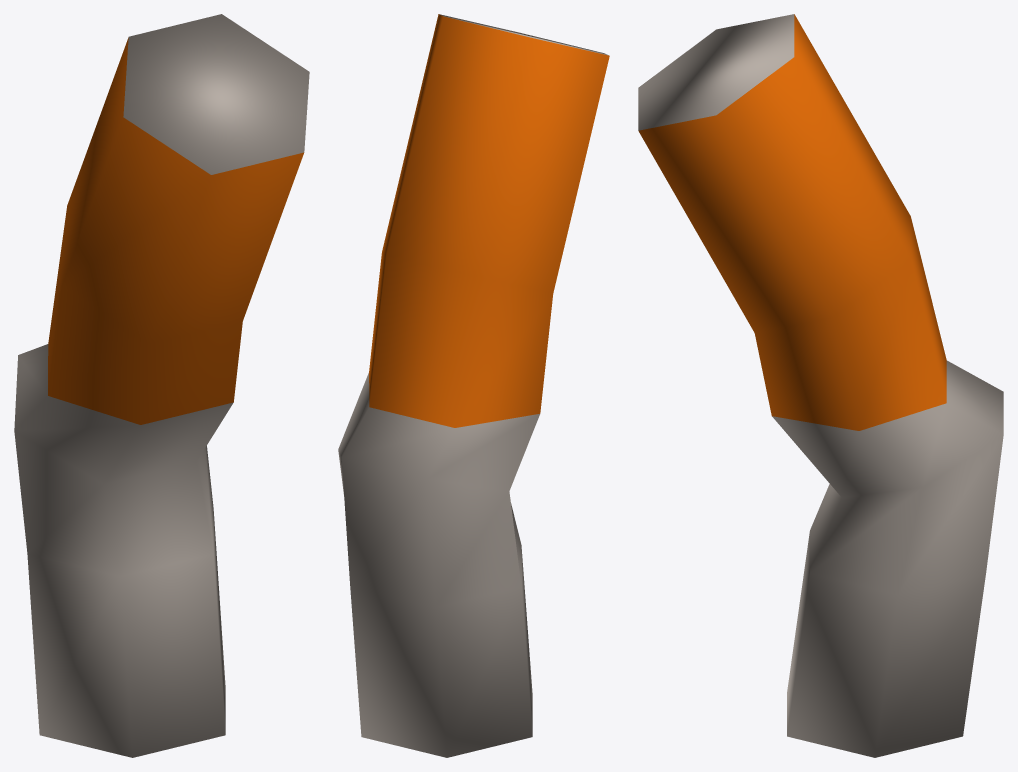
Rendered from Cigarette_Butt.fbx.
3 views of the same model, side by side, from view 1: azimuth 30°, elevation 25°; view 2: azimuth 150°, elevation 25°; view 3: azimuth 270°, elevation 25° (orthographic). The views are drawn at different scales.
Visible parts, largest first — view 1: pCylinder33; view 2: pCylinder33; view 3: pCylinder33.
Part boxes in pixels (x1=…): pCylinder33: x1=14, y1=14, x2=309, y2=757; pCylinder33: x1=338, y1=14, x2=609, y2=757; pCylinder33: x1=638, y1=14, x2=1003, y2=757.
Bounding box in the file's own units: 2 × 7.37 × 3.59.
